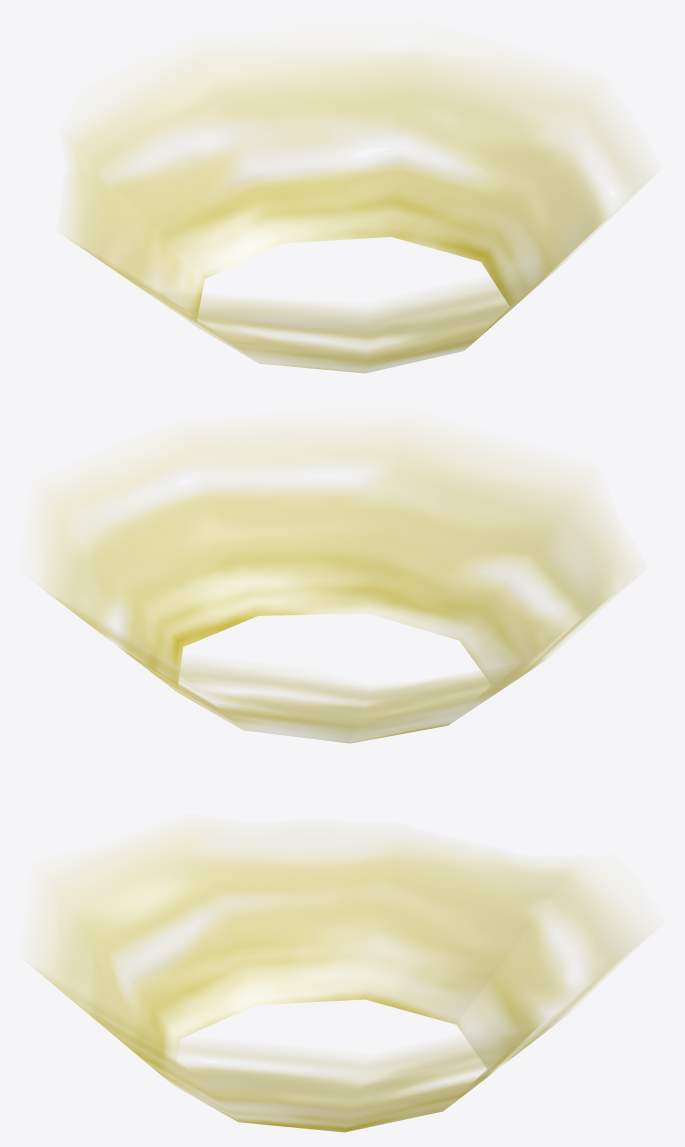
The model's file is recall.glb.
3 views of the same model, one above another, from view 1: azimuth 30°, elevation 25°; view 2: azimuth 150°, elevation 25°; view 3: azimuth 270°, elevation 25° (orthographic). The views are drawn at different scales.
Parts seen in each view (by area): view 1: recall; view 2: recall; view 3: recall.
Boxes of the visible parts, x1,y1,x2,y2 form: recall: (65, 34, 650, 373); recall: (24, 424, 632, 743); recall: (25, 831, 649, 1132).
Size of the model in its own units: 22.49 by 5.8 by 21.7.
1 material, 1 textured.
